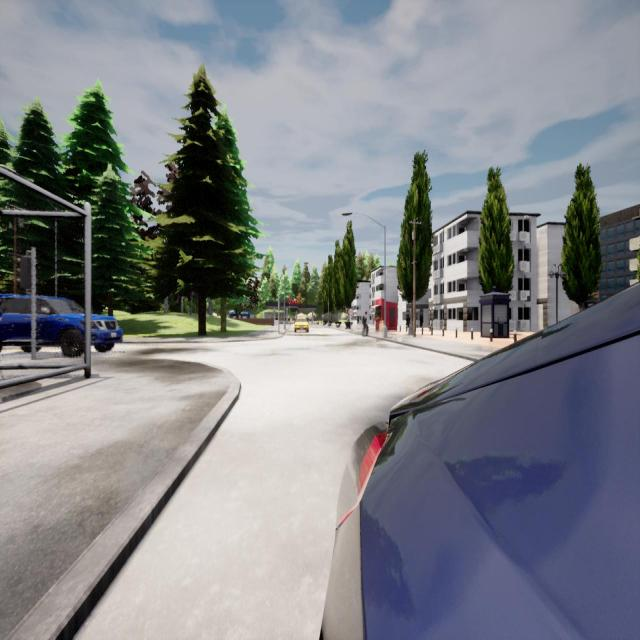Pedestrian: (363, 311, 369, 337)
Traffic_Signs: (349, 308, 353, 314)
Vehicle: (322, 285, 638, 640), (0, 295, 123, 354), (294, 317, 308, 333)
traffic_light: (17, 256, 32, 288)
